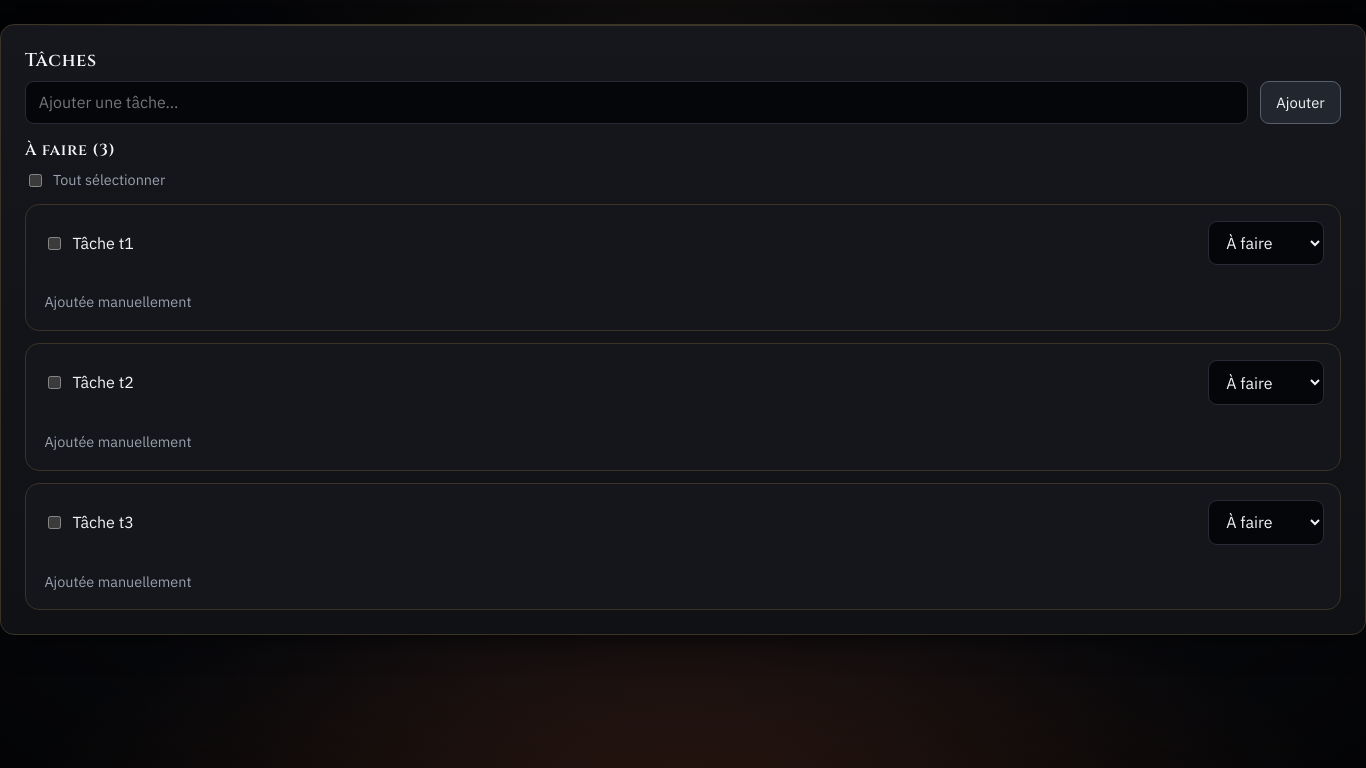
TasksSection — IGINI fait les tâches › affiche « Limite atteinte » et garde cochés les éléments non traités
The image size is (1366, 768).
Expected: the text "Tâche t1" is shown, 72,231 -> 134,255
Click the checkbox named "Faire faire : Tâche t1". click: (55, 243)
box: 48,236 -> 61,250
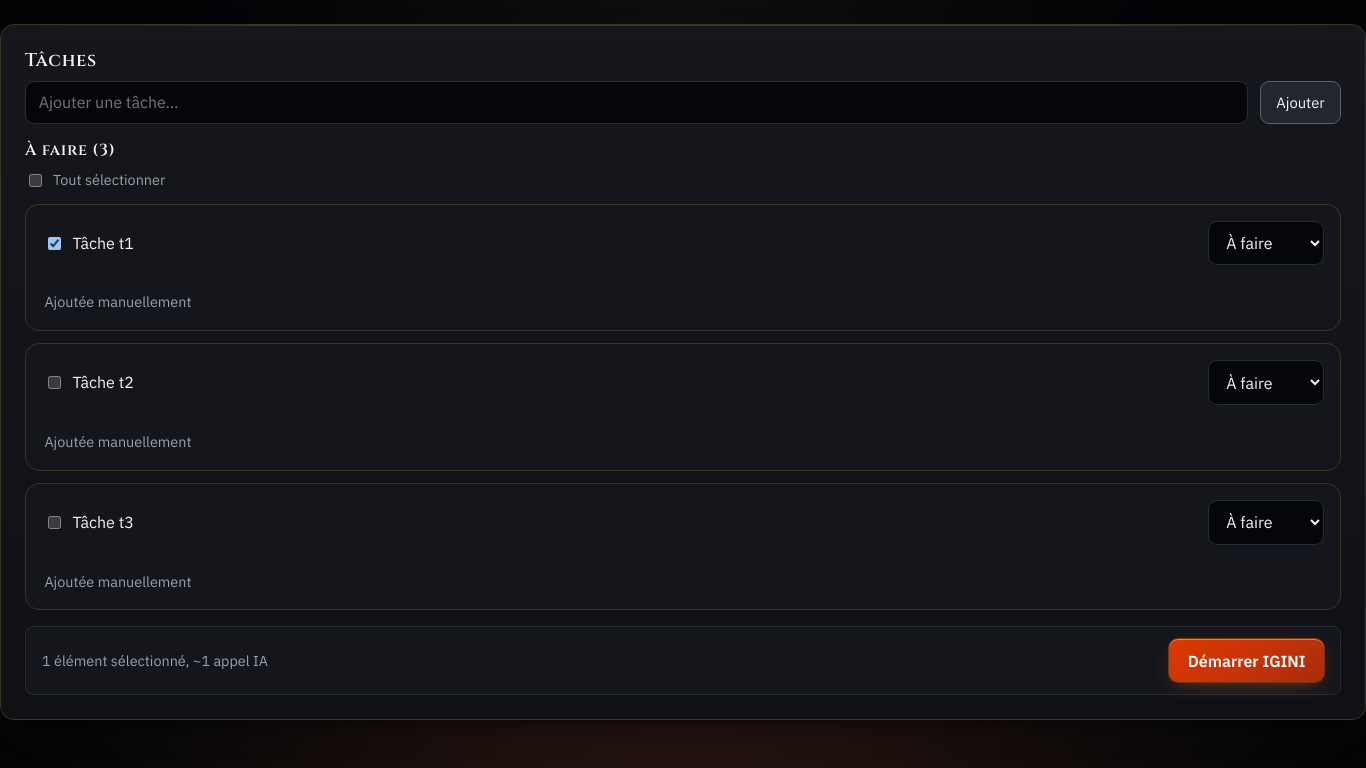
Click the checkbox named "Faire faire : Tâche t2". click: (55, 383)
box: 48,376 -> 61,389
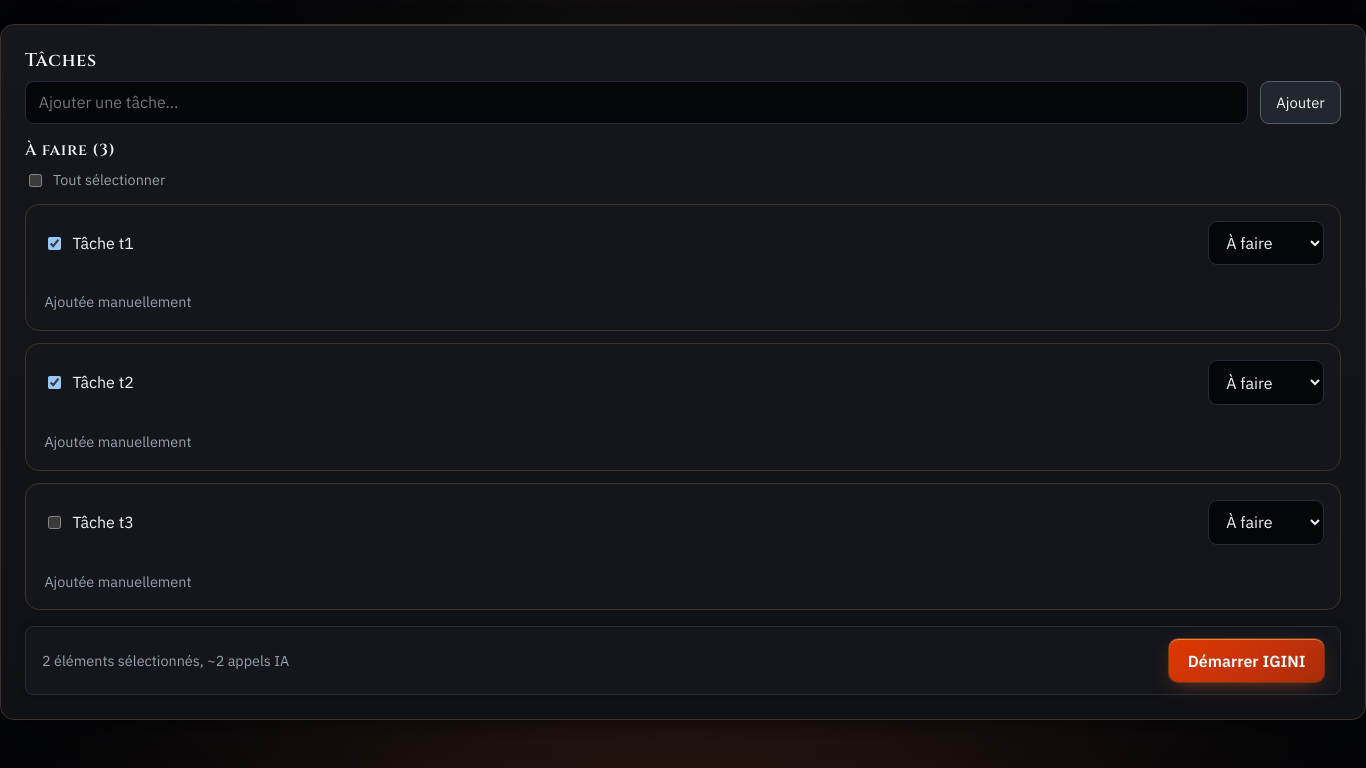
Click the checkbox named "Faire faire : Tâche t3". click: (55, 522)
box: 48,516 -> 61,529
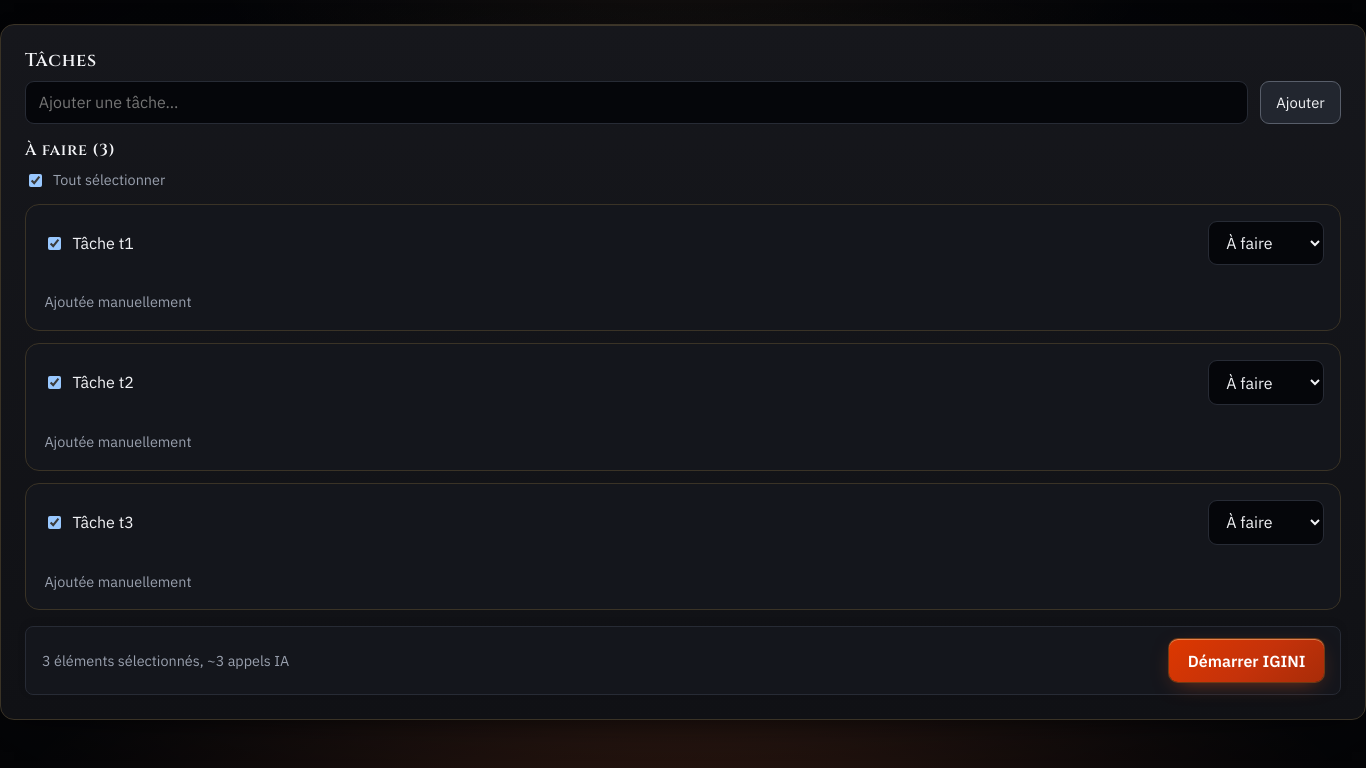
Click the button "Démarrer IGINI". click: (1247, 661)
box: 1169,639 -> 1324,682
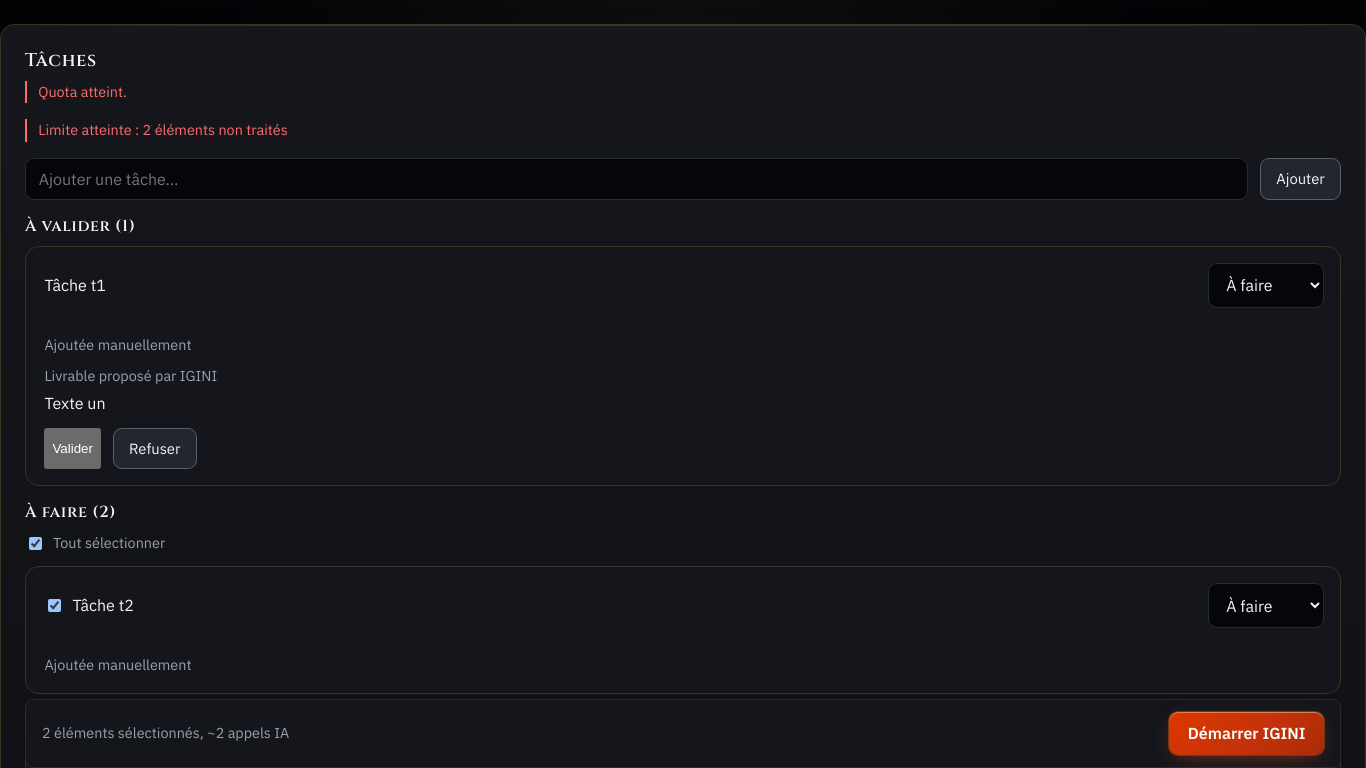
Expected: the checkbox named "Faire faire : Tâche t3" is checked, 48,739 -> 61,752
Expected: the checkbox named "Faire faire : Tâche t2" is checked, 48,599 -> 61,612
Expected: the text "Limite atteinte : 2 éléments non traités" is shown, 25,119 -> 1341,142
